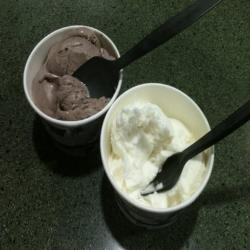icecream: (100, 86, 212, 215), (24, 22, 120, 122)
